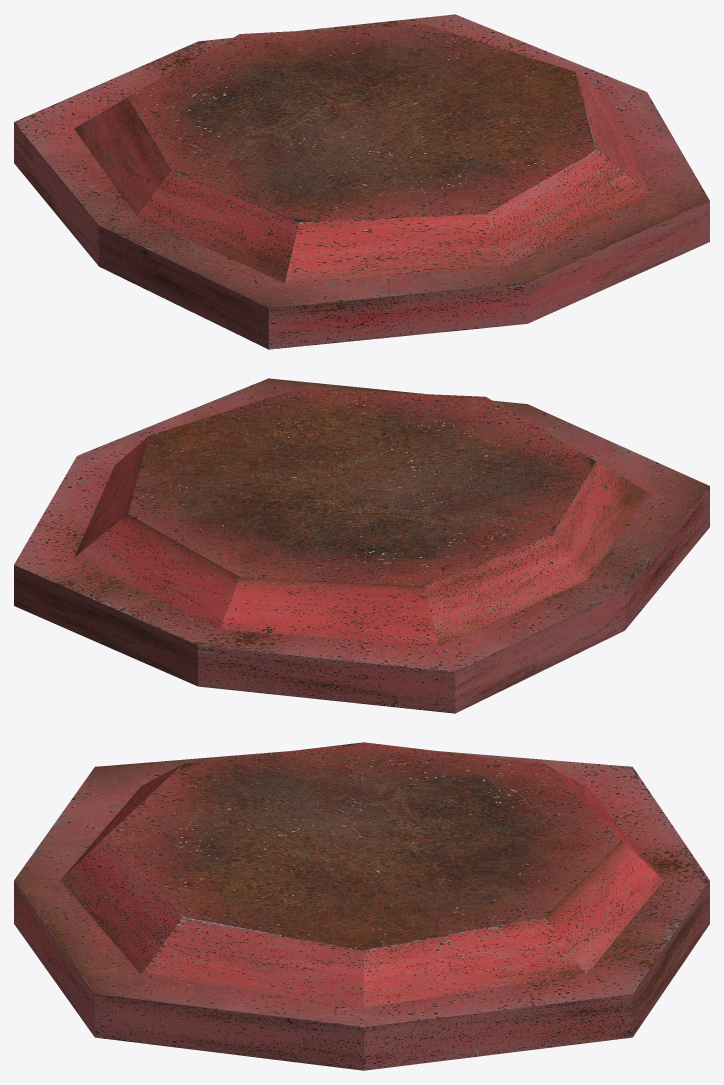
Rendered from TurretBase.glb.
The picture shows the model from 3 angles, top to bottom: view 1: azimuth 30°, elevation 25°; view 2: azimuth 150°, elevation 25°; view 3: azimuth 270°, elevation 25°; orthographic projection. The views are drawn at different scales.
Visible parts, largest first — view 1: Cube; view 2: Cube; view 3: Cube.
Part boxes in pixels (x1,y1,x2,y2): Cube: (14,14,709,349); Cube: (14,378,709,713); Cube: (14,742,709,1070).
Size of the model in its own units: 3.17 by 0.4362 by 3.3.
Materials: 1 (1 with a texture image).
